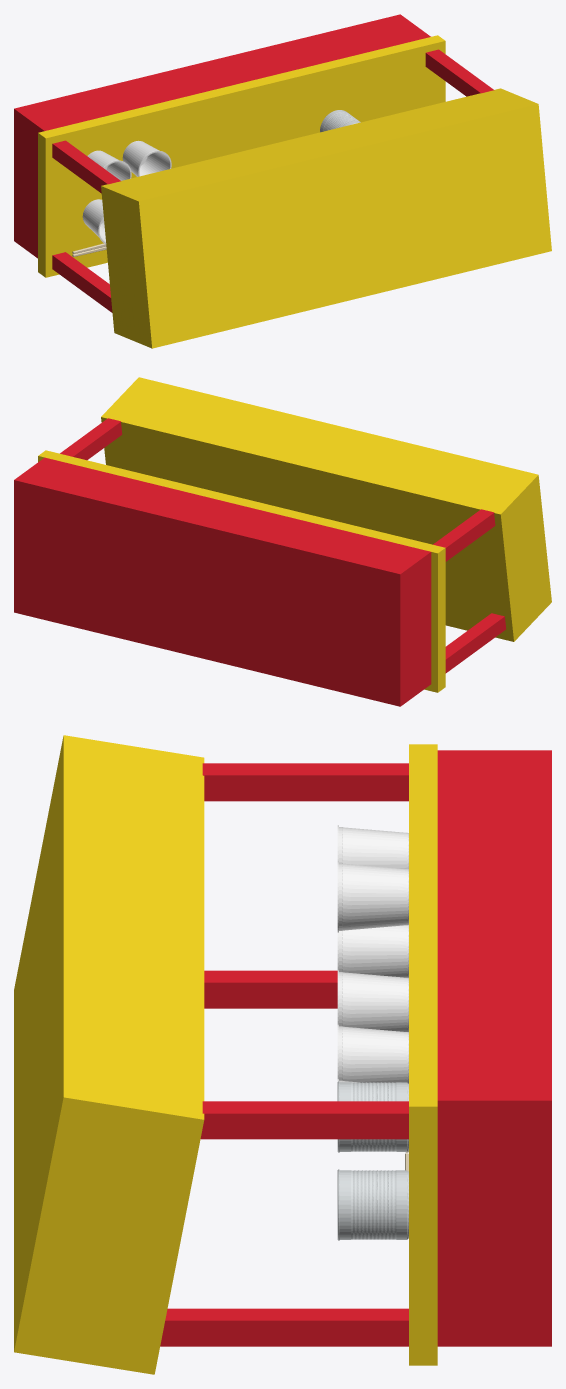
File: Avater4.obj
3 renders of one model, top to bottom at view 1: azimuth 30°, elevation 25°; view 2: azimuth 150°, elevation 25°; view 3: azimuth 270°, elevation 25°, orthographic. The views are drawn at different scales.
Parts seen in each view (by area): view 1: group_0_16768282, group_0_15277357, group_0_16448250, group_0_14541540; view 2: group_0_15277357, group_0_16768282; view 3: group_0_16768282, group_0_15277357, group_0_16448250, group_0_14541540.
Part boxes in pixels (bbox=[...]): group_0_16768282: bbox=[38, 35, 551, 348]; group_0_15277357: bbox=[14, 14, 494, 312]; group_0_16448250: bbox=[82, 140, 171, 243]; group_0_14541540: bbox=[320, 110, 360, 132]; group_0_15277357: bbox=[14, 418, 506, 706]; group_0_16768282: bbox=[38, 377, 551, 692]; group_0_16768282: bbox=[14, 735, 437, 1374]; group_0_15277357: bbox=[160, 750, 551, 1346]; group_0_16448250: bbox=[337, 825, 408, 1083]; group_0_14541540: bbox=[337, 1081, 408, 1240].
Size of the model in its own units: 60 by 21.43 by 37.66.
